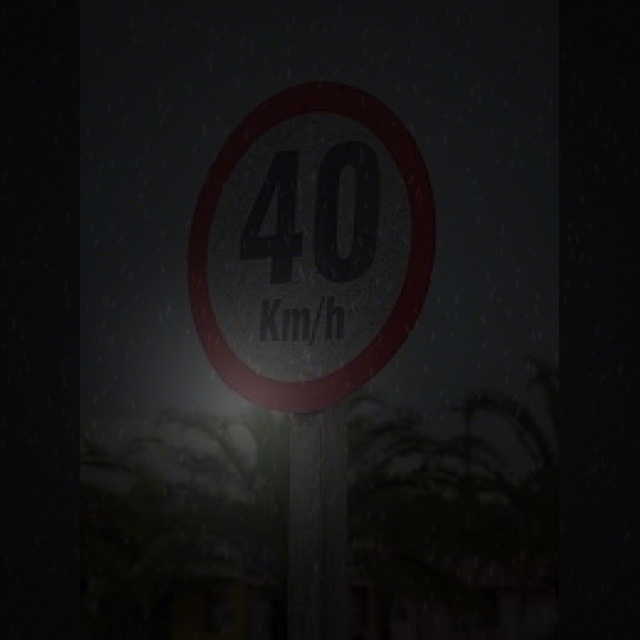Speed_Limit_40: (193, 81, 437, 399)
